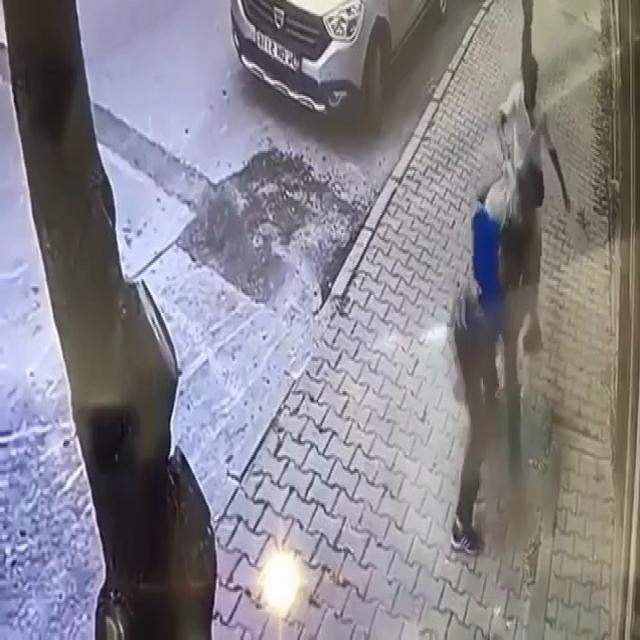fight: (452, 160, 545, 554)
